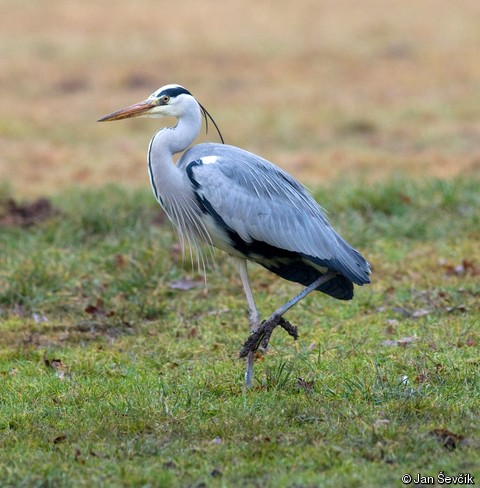heron: (96, 83, 376, 399)
